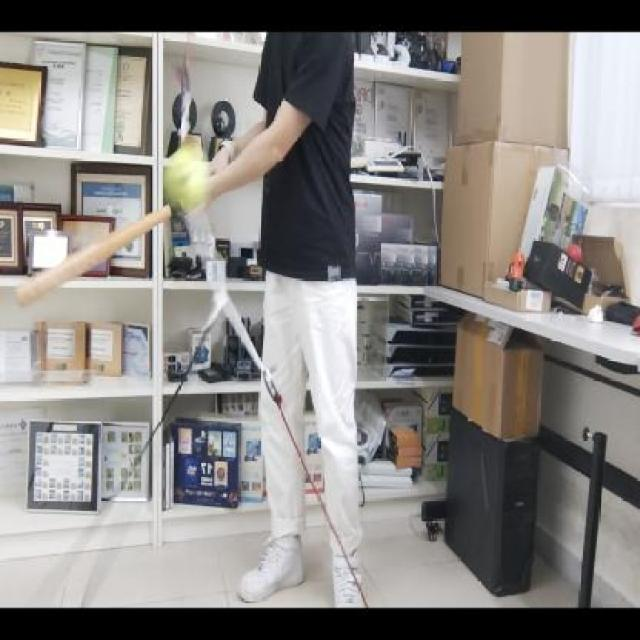baseball: (161, 142, 213, 213)
